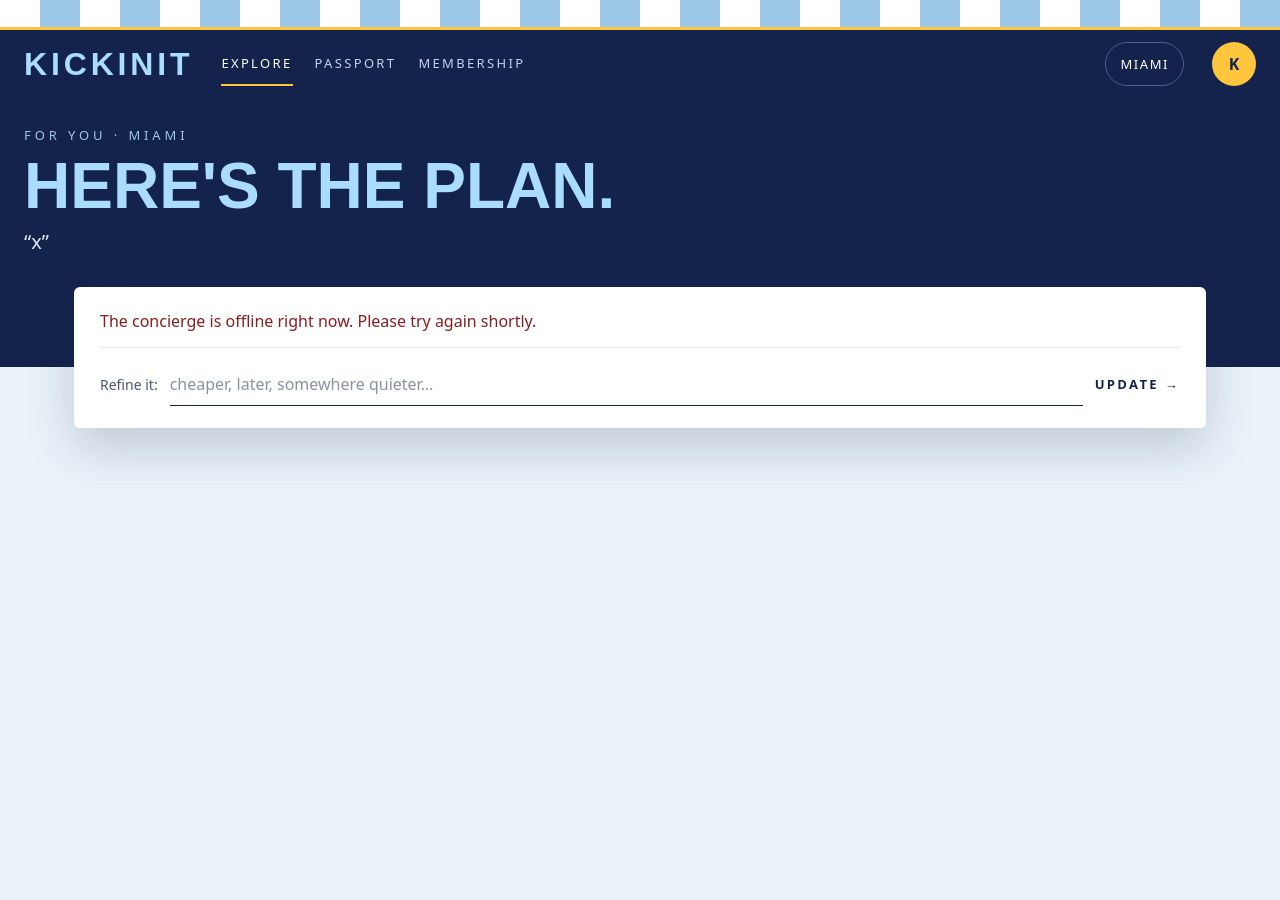
it: PlanView › errors › HTTP 503 shows a friendly message and lets you try again
Expected: the message shows "The concierge is offline right now.", [100,310,536,332]
In the field labelled "Refine it:": (626, 384) [170,362,1083,406], type "try again"
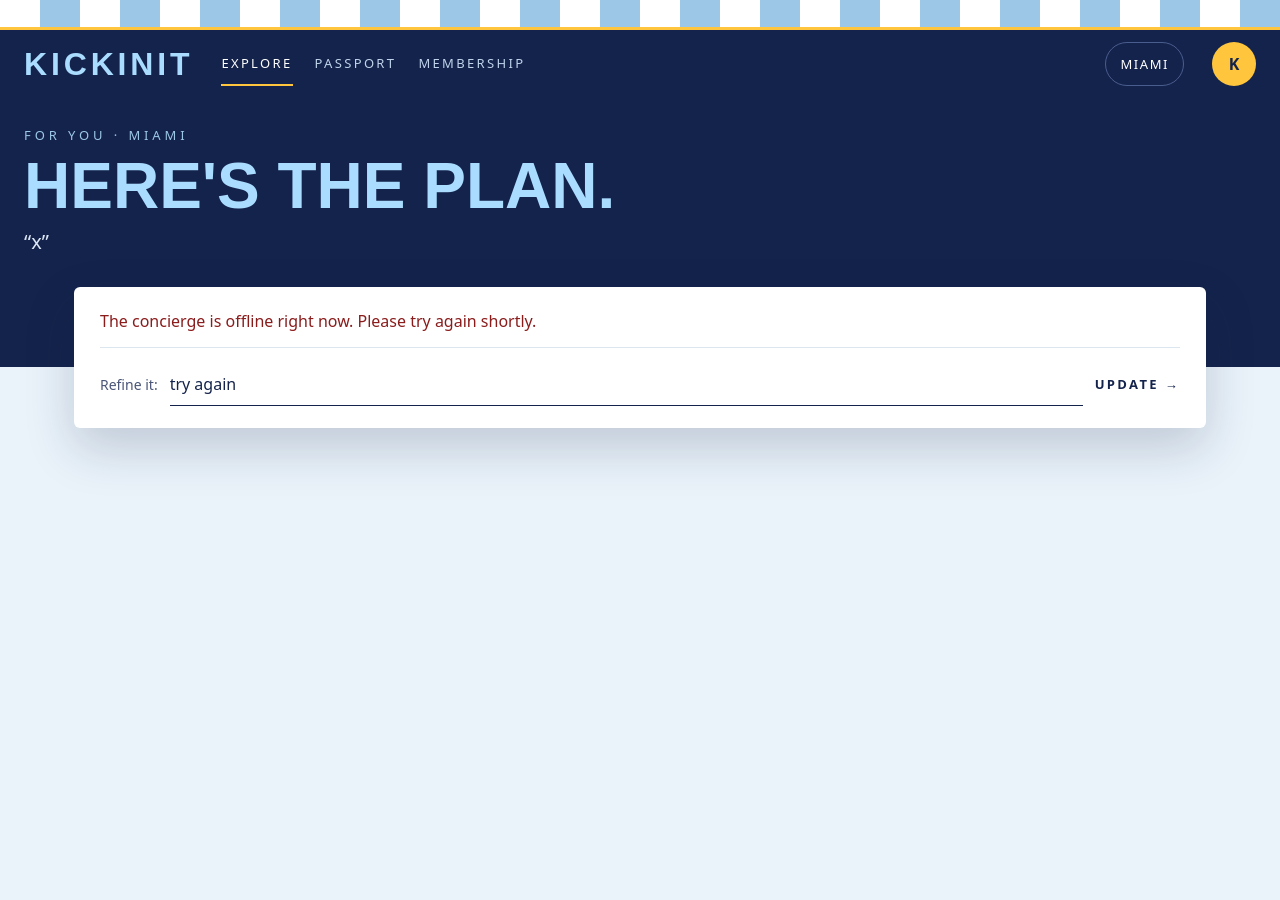
Click the button "Update →": (1137, 384) [1095,362,1180,406]
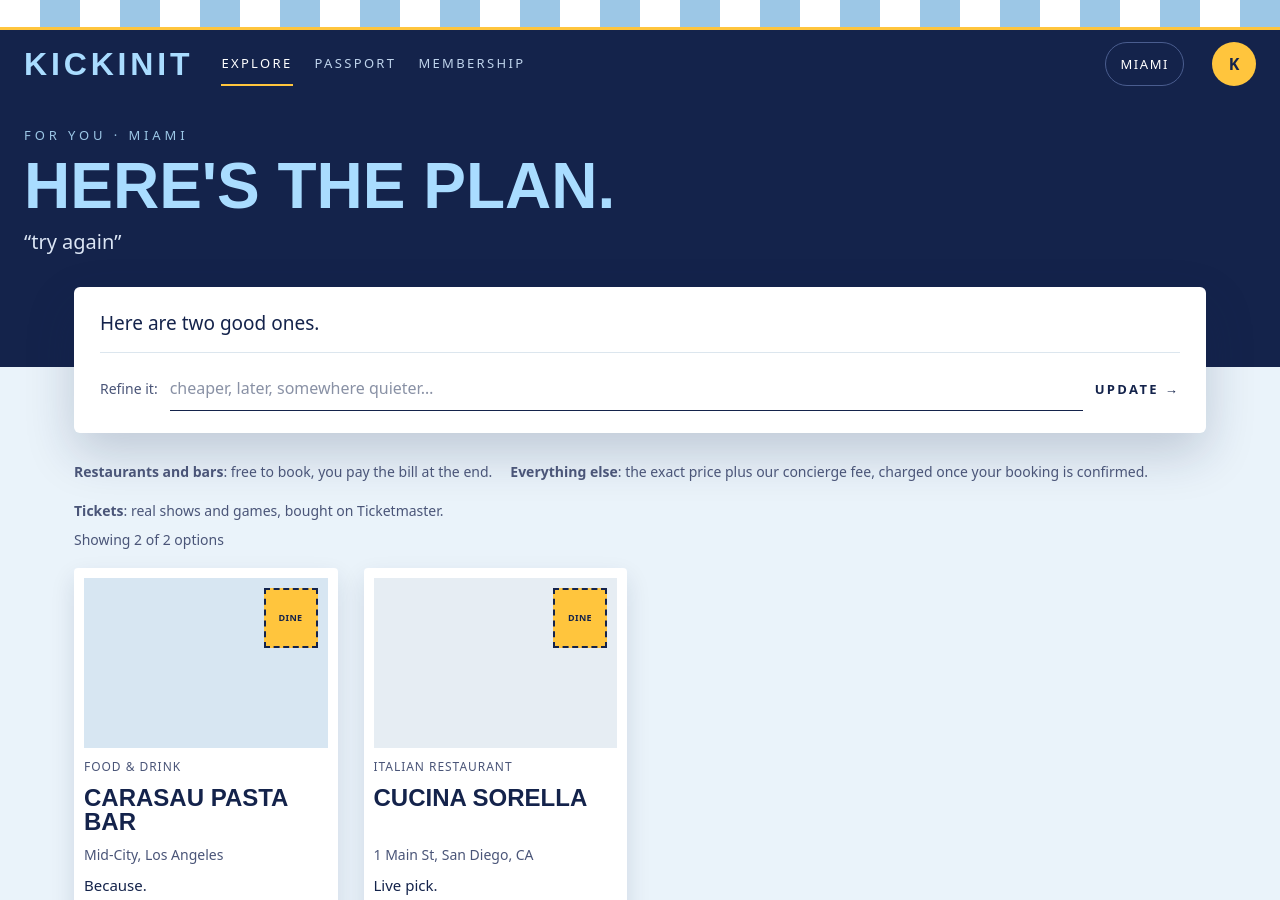
Expected: the text "Here are two good ones." is shown, [100,310,319,336]
Expected: the message "The concierge is offline right now. Please try again shortly." is gone
